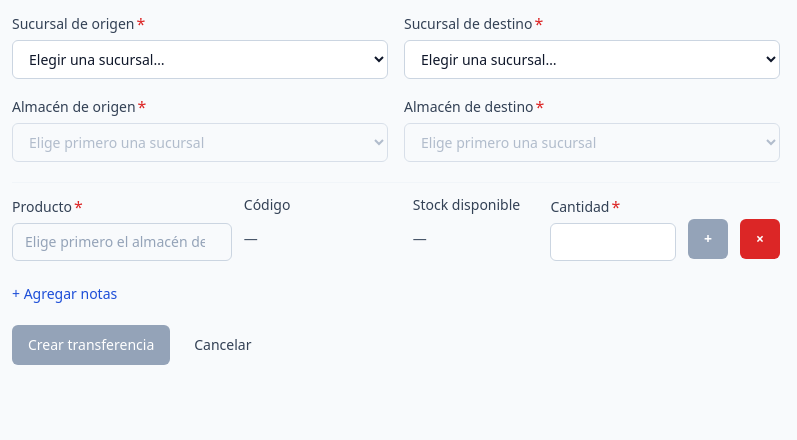
TransferForm › the notes box is collapsed until "+ Agregar notas" is pressed, like the receive modal
Step 1. Click the button "+ Agregar notas" → (65, 294), box [12, 284, 117, 304]
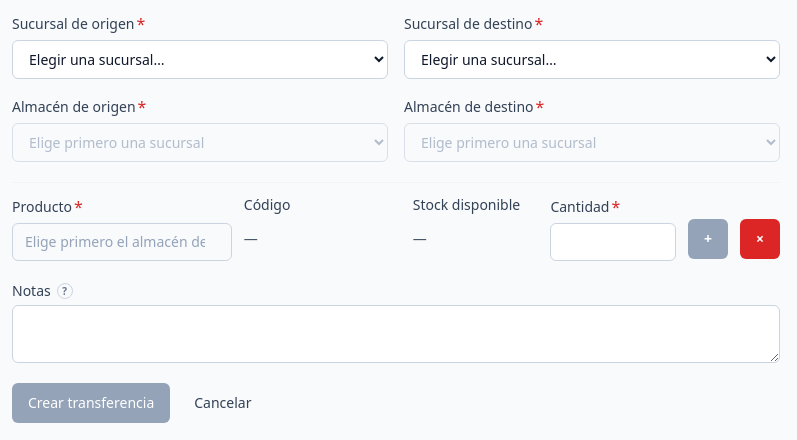
Result: the text box labelled "Notas" is shown at [12, 305, 780, 363]
